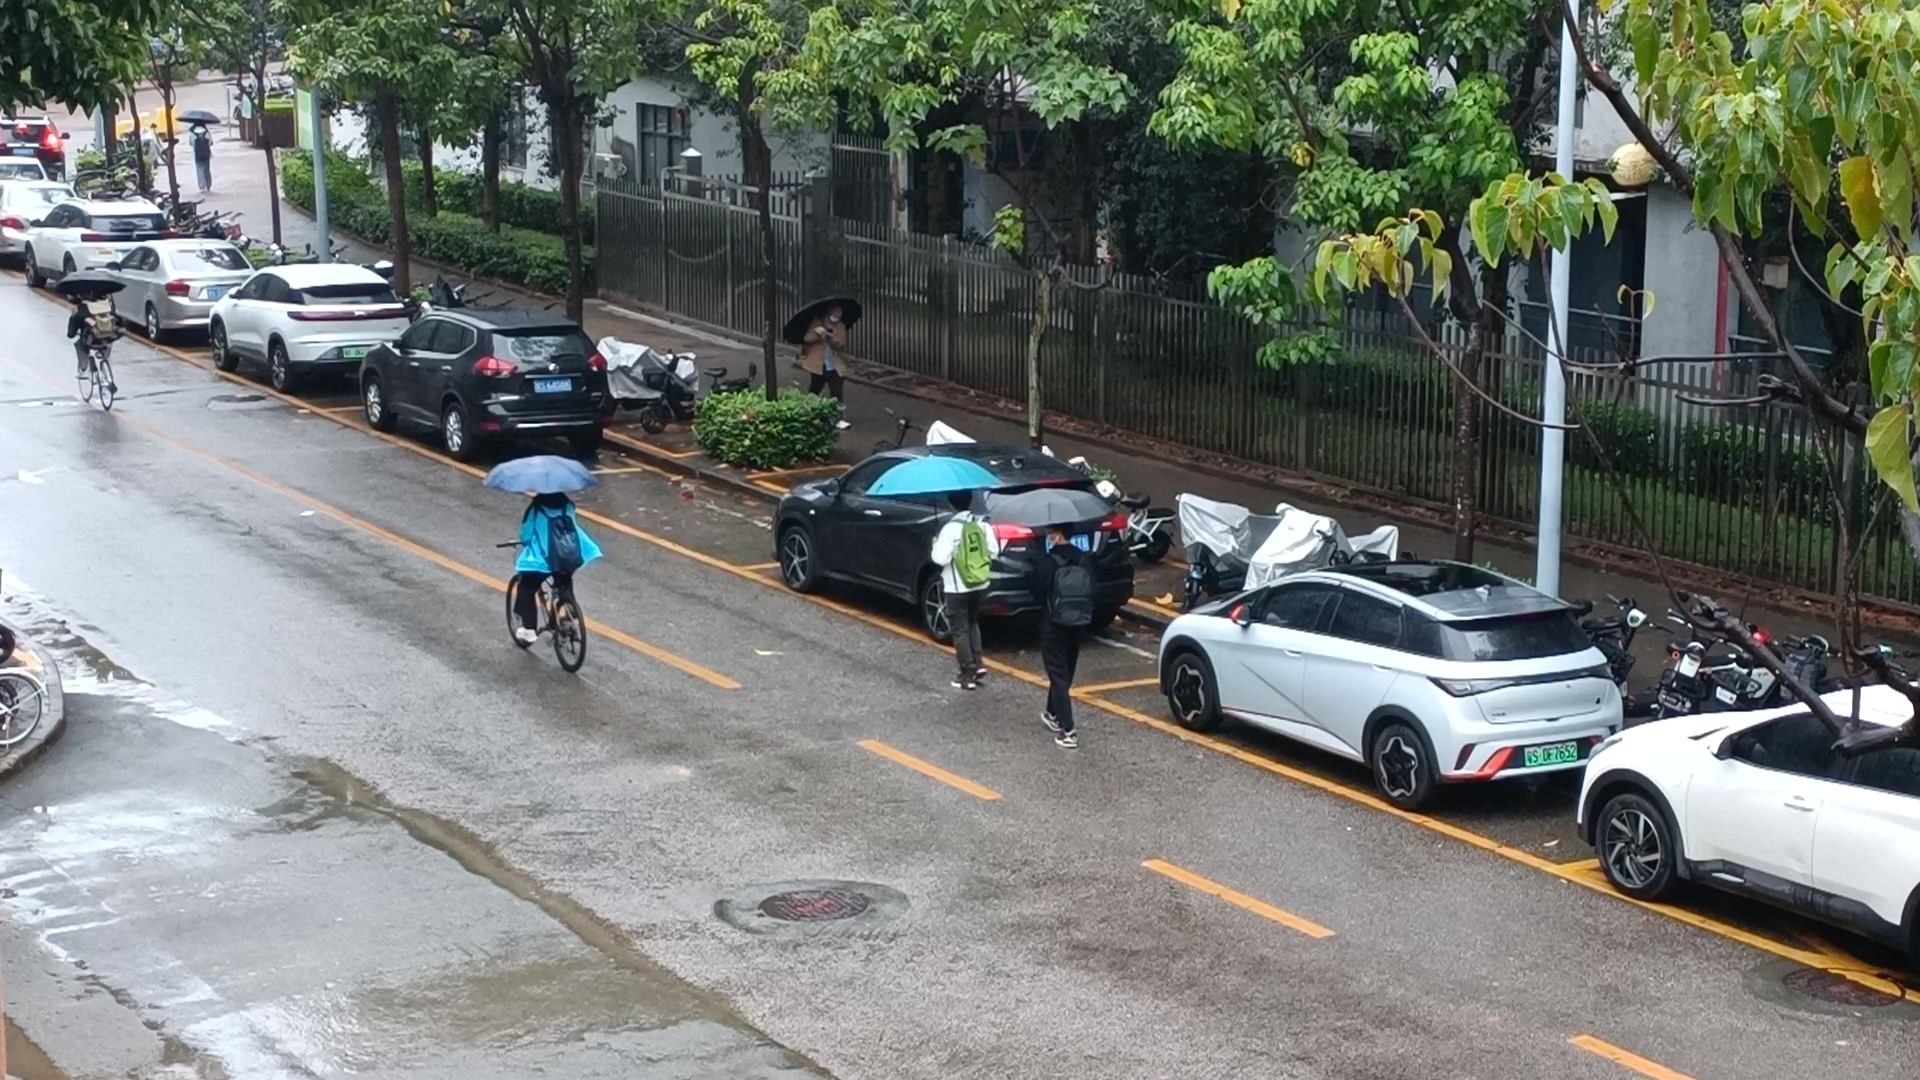space-empty: (514, 460, 889, 578)
space-occupied: (1073, 657, 1721, 869), (735, 545, 1254, 698), (316, 400, 644, 480), (181, 339, 438, 415), (79, 302, 301, 356), (21, 268, 210, 314)
